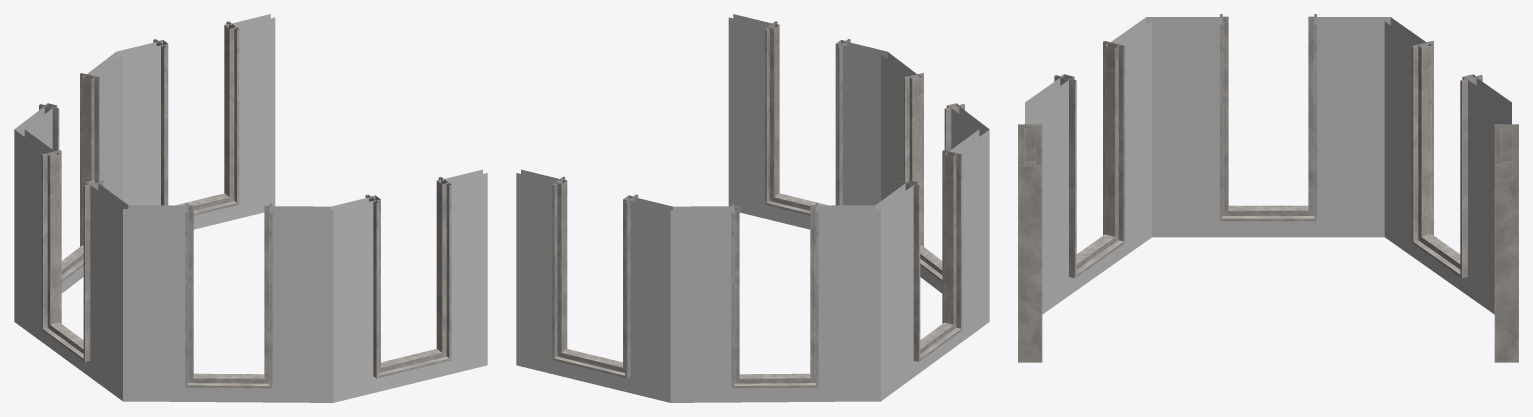
Rendered from Ambulatory_Inner_D_D.fbx.
3 views of the same model, side by side, from view 1: azimuth 30°, elevation 25°; view 2: azimuth 150°, elevation 25°; view 3: azimuth 270°, elevation 25° (orthographic). The views are drawn at different scales.
Visible parts, largest first — view 1: Ambulatory_Inner_D_D; view 2: Ambulatory_Inner_D_D; view 3: Ambulatory_Inner_D_D.
Part boxes in pixels (x1,y1,x2,y2): Ambulatory_Inner_D_D: [14, 14, 487, 402]; Ambulatory_Inner_D_D: [516, 14, 989, 402]; Ambulatory_Inner_D_D: [1018, 14, 1518, 362].
Size of the model in its own units: 10.31 by 12.61 by 6.
